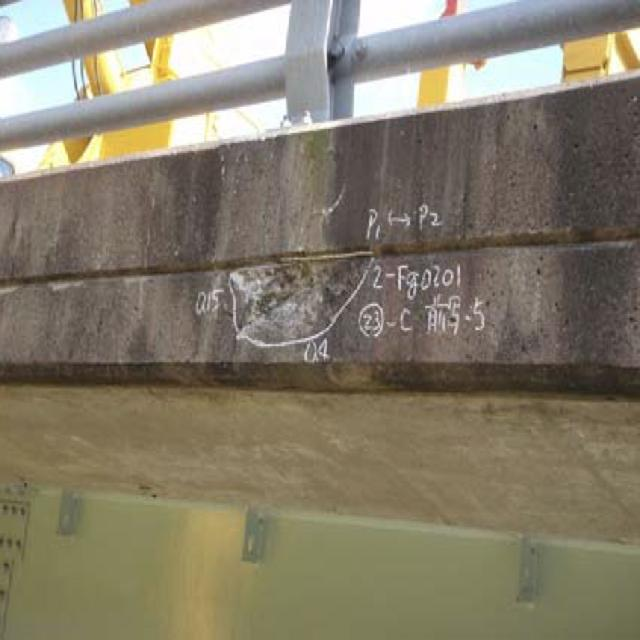spalling: (227, 253, 369, 363)
